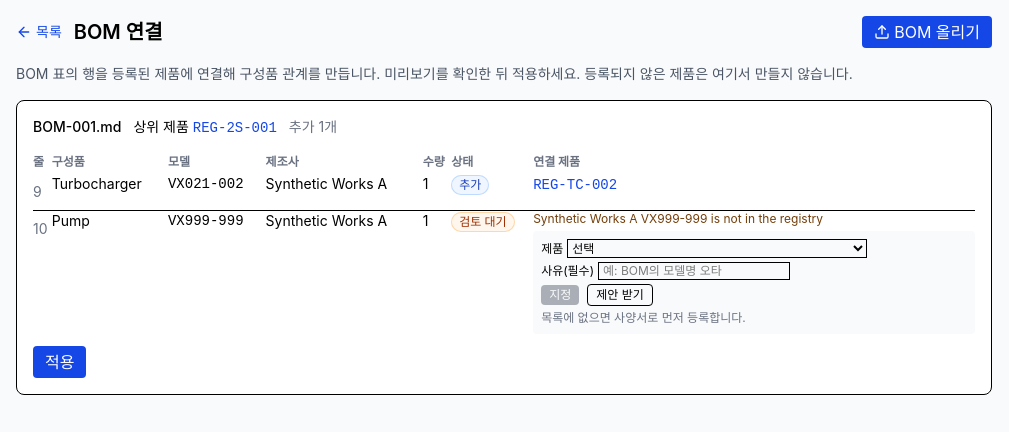
it: BomPage › keeps a reason the reviewer already typed when a suggestion arrives
Type "도면과 대조함" into the field labelled "사유(필수)" at (694, 271), box top-left (598, 262), bottom-right (790, 280)
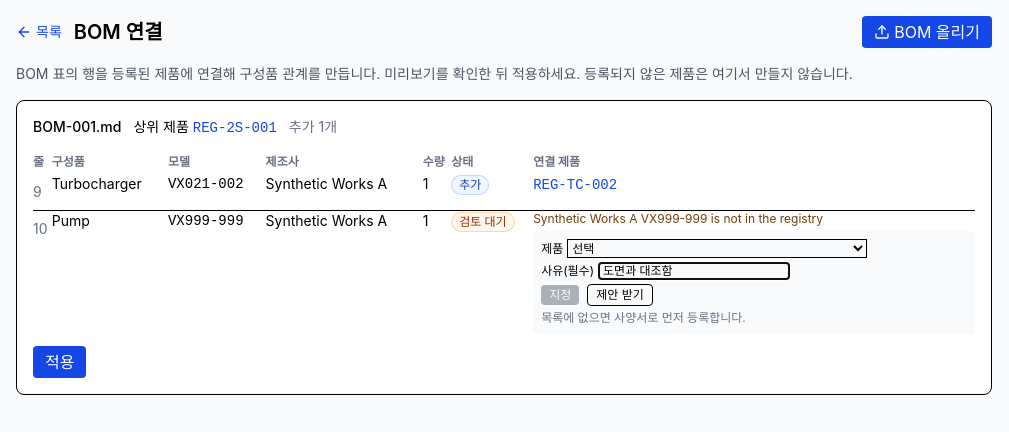
Click the button "제안 받기" at (620, 295), box top-left (587, 284), bottom-right (653, 306)
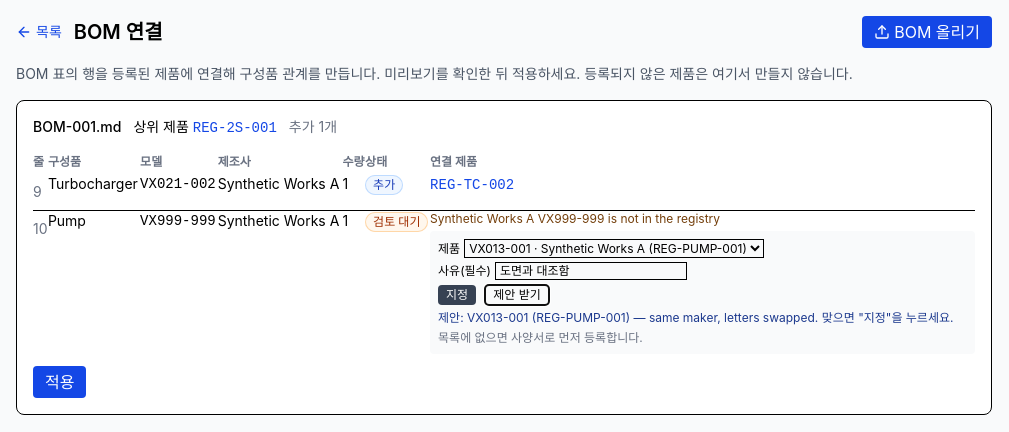
Check: the text "제안: VX013-001" is shown, box top-left (438, 310), bottom-right (967, 326)
Check: the dropdown labelled "제품" shows "VX013-001 · Synthetic Works A (REG-PUMP-001)", box top-left (464, 239), bottom-right (764, 258)
